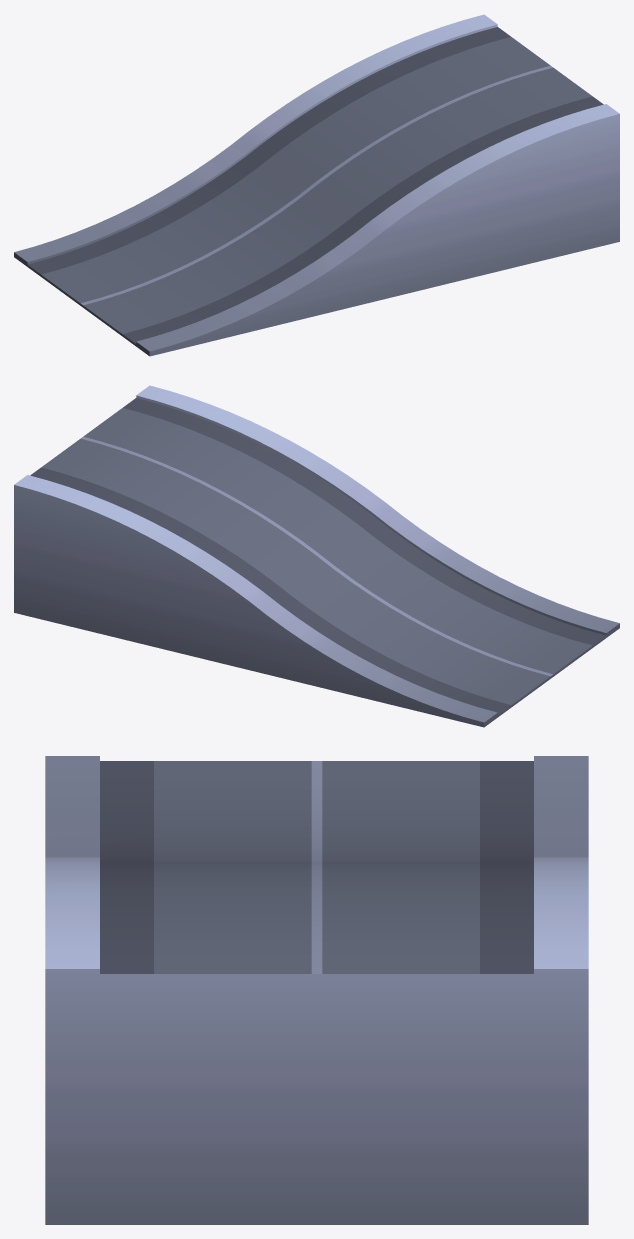
The model's file is road-slant-curve.glb.
The picture shows the model from 3 angles, top to bottom: view 1: azimuth 30°, elevation 25°; view 2: azimuth 150°, elevation 25°; view 3: azimuth 270°, elevation 25°; orthographic projection. The views are drawn at different scales.
Visible parts, largest first — view 1: road-slant-curve; view 2: road-slant-curve; view 3: road-slant-curve.
Part boxes in pixels (<box>): road-slant-curve: <box>14,14,619,356</box>; road-slant-curve: <box>14,385,619,727</box>; road-slant-curve: <box>45,756,588,1224</box>.
Bounding box in the file's own units: 2 × 0.5201 × 1.
Materials: 1 (1 with a texture image).
